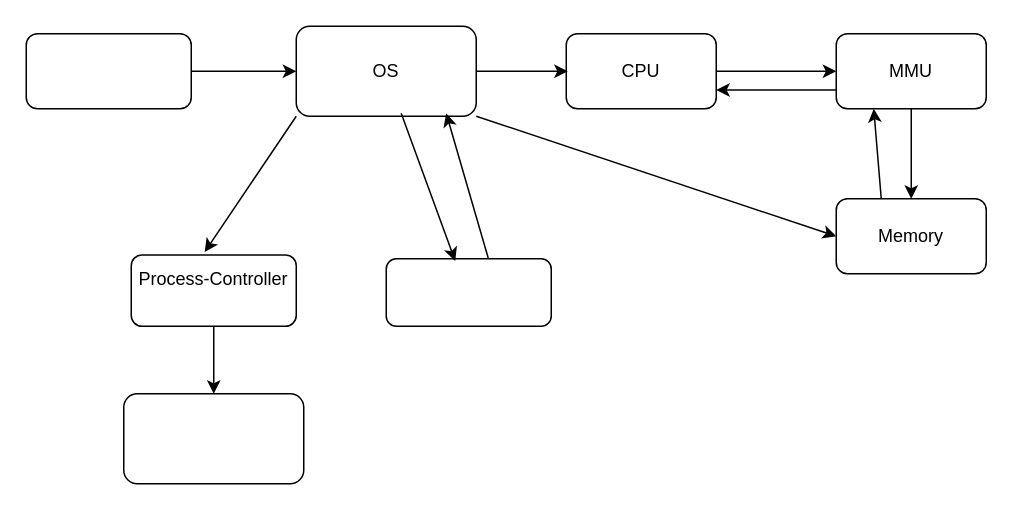
The diagram is 1013 pixels wide and 510 high, and some of its shapes have lost their labels. Here are the shapes that lost their labels. From the top down, the centre of each, then its label:
At point (108, 70): "Dashboard".
At point (468, 291): "Scheduler".
At point (213, 438): "Process".
